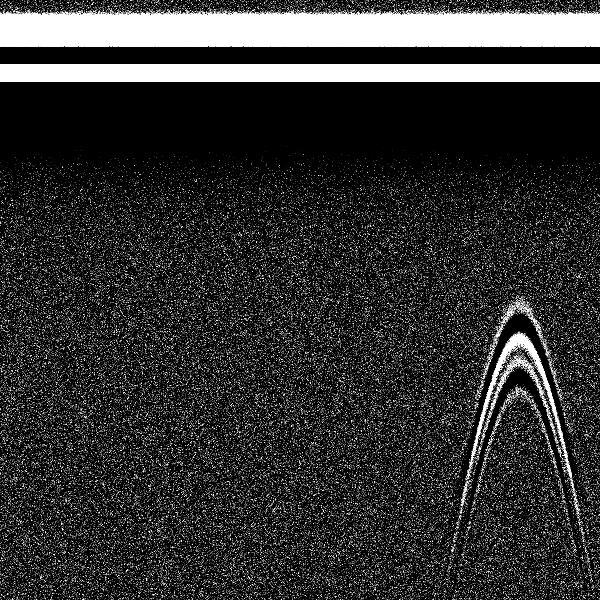pipe: (467, 7, 569, 409)
